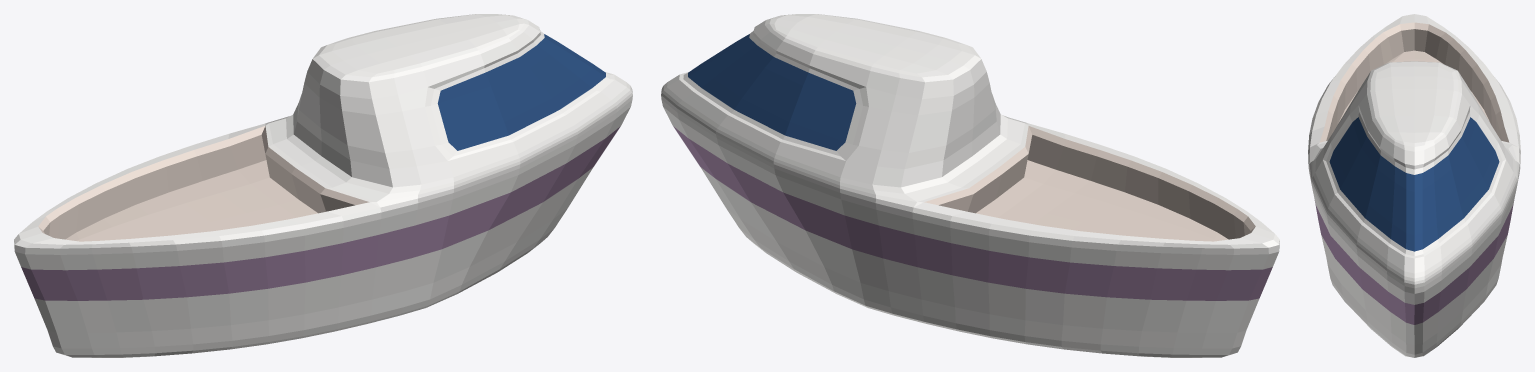
File: Isl_11_Boat_1.fbx
3 views of the same model, side by side, from view 1: azimuth 30°, elevation 25°; view 2: azimuth 150°, elevation 25°; view 3: azimuth 270°, elevation 25° (orthographic). The views are drawn at different scales.
Visible parts, largest first — view 1: Isl_11_Boat_1; view 2: Isl_11_Boat_1; view 3: Isl_11_Boat_1.
Part boxes in pixels (box(x1,y1,x2,y2)): Isl_11_Boat_1: box(14, 14, 632, 357); Isl_11_Boat_1: box(661, 14, 1279, 357); Isl_11_Boat_1: box(1308, 14, 1520, 357).
Bounding box in the file's own units: 856 × 281 × 306.
1 material, 1 textured.
